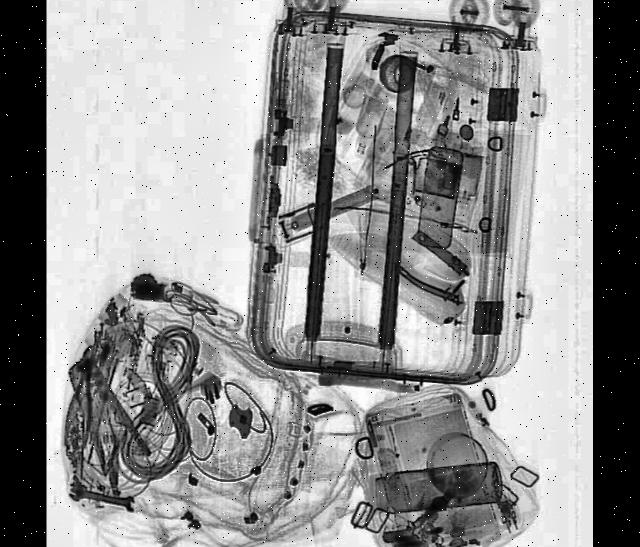Pliers: (55, 340, 154, 488), (64, 346, 102, 450)
Wrench: (70, 486, 137, 512)
